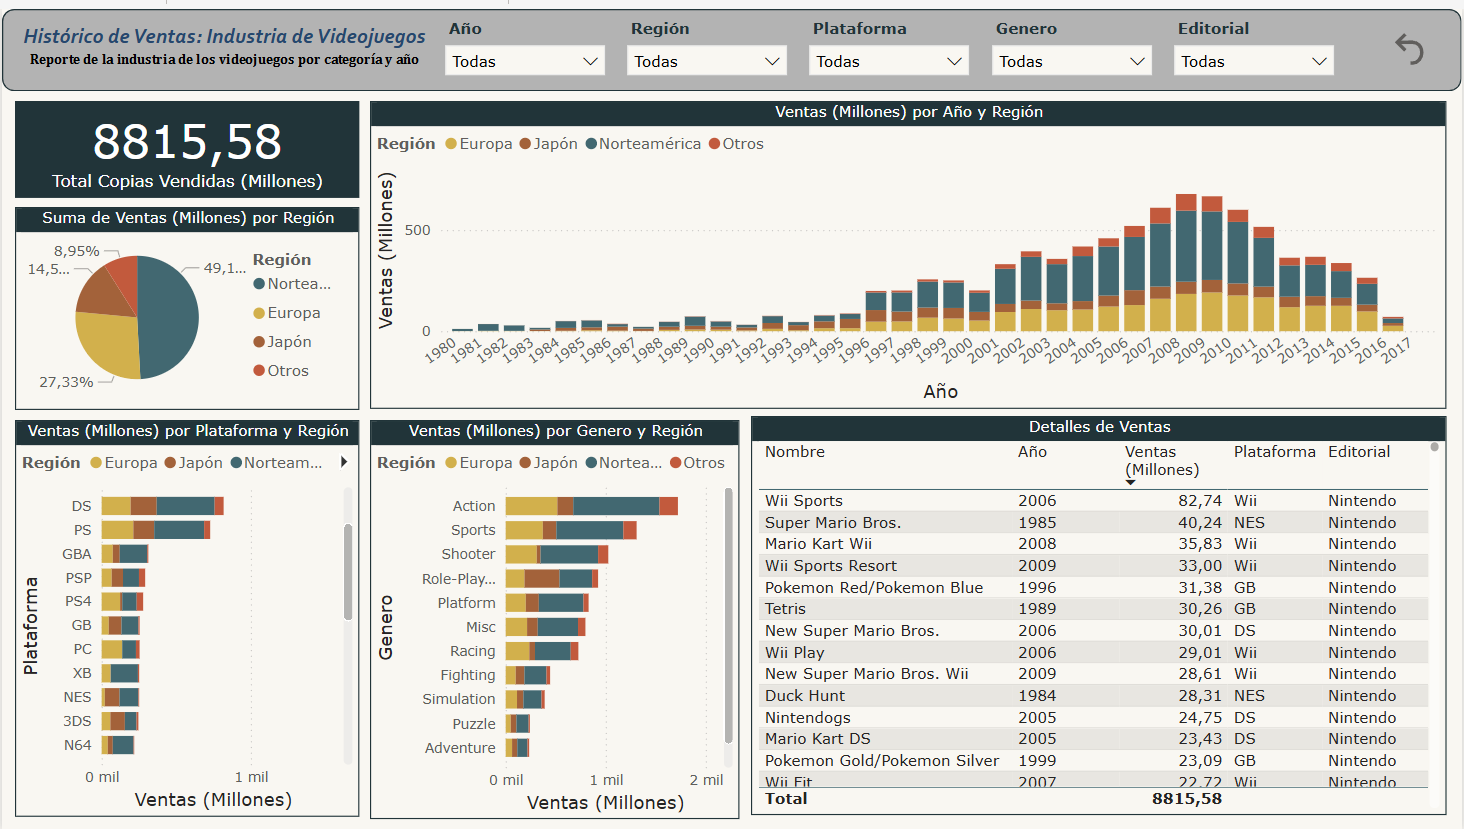

What the dashboard file says about the page in this screenshot:
{"tool":"powerbi","page":{"name":"Análisis Ventas","canvas":[1280,720],"ordinal":0},"visuals":[{"type":"shape","box":[0,0,1280,72],"z":0},{"type":"tableEx","title":"Detalles de Ventas","fields":{"Values":["Ventas Videojuegos.Nombre","Ventas Videojuegos.Año","Sum(Ventas Videojuegos.Ventas (Millones))","Ventas Videojuegos.Plataforma","Ventas Videojuegos.Editorial"]},"box":[656.9,357.3,609.8,350.2],"z":1000},{"type":"columnChart","fields":{"Y":["Sum(Ventas Videojuegos.Ventas (Millones))"],"Category":["Ventas Videojuegos.Año"],"Series":["Ventas Videojuegos.Región"]},"box":[322.7,80.9,944,270.2],"z":2000},{"type":"pieChart","fields":{"Category":["Ventas Videojuegos.Región"],"Y":["Sum(Ventas Videojuegos.Ventas (Millones))"]},"box":[11.6,173.3,302.2,177.8],"z":3000},{"type":"barChart","fields":{"Y":["Sum(Ventas Videojuegos.Ventas (Millones))"],"Series":["Ventas Videojuegos.Región"],"Category":["Ventas Videojuegos.Plataforma"]},"box":[11.6,360,302.2,347.6],"z":4000},{"type":"barChart","fields":{"Y":["Sum(Ventas Videojuegos.Ventas (Millones))"],"Series":["Ventas Videojuegos.Región"],"Category":["Ventas Videojuegos.Genero"]},"box":[322.7,360,324.4,350.2],"z":5000},{"type":"card","title":"Ventas Totales (Millones)","fields":{"Values":["Sum(Ventas Videojuegos.Ventas (Millones))"]},"box":[11.6,80.9,302.2,85.3],"z":6000},{"type":"slicer","fields":{"Values":["Ventas Videojuegos.Año"]},"box":[378.9,0,160,71.8],"z":7000},{"type":"slicer","fields":{"Values":["Ventas Videojuegos.Editorial"]},"box":[1018.1,0,160,71.8],"z":8000},{"type":"slicer","fields":{"Values":["Ventas Videojuegos.Plataforma"]},"box":[698.5,0,160,71.8],"z":9000},{"type":"slicer","fields":{"Values":["Ventas Videojuegos.Genero"]},"box":[858.3,0,160,71.8],"z":10000},{"type":"slicer","fields":{"Values":["Ventas Videojuegos.Región"]},"box":[538.7,0,159.8,71.8],"z":11000},{"type":"textbox","box":[11.7,7.2,367.2,57.5],"z":12000},{"type":"actionButton","box":[1215.6,14.4,37.7,42.2],"z":13000}]}

Visuals, with their boxes in screenshot pixels (x1, y1, x2, y2), scaled from the page's 1280x720 canvas onto the 1464x829 screenshot:
shape: [0, 0, 1463, 83]
"Detalles de Ventas" tableEx: [751, 411, 1449, 815]
columnChart - Sum(Ventas Videojuegos.Ventas (Millones)) x Ventas Videojuegos.Año: [369, 93, 1449, 404]
pieChart - Ventas Videojuegos.Región x Sum(Ventas Videojuegos.Ventas (Millones)): [13, 200, 359, 404]
barChart - Sum(Ventas Videojuegos.Ventas (Millones)) x Ventas Videojuegos.Región: [13, 414, 359, 815]
barChart - Sum(Ventas Videojuegos.Ventas (Millones)) x Ventas Videojuegos.Región: [369, 414, 740, 818]
"Ventas Totales (Millones)" card: [13, 93, 359, 191]
slicer - Ventas Videojuegos.Año: [433, 0, 616, 83]
slicer - Ventas Videojuegos.Editorial: [1164, 0, 1347, 83]
slicer - Ventas Videojuegos.Plataforma: [799, 0, 982, 83]
slicer - Ventas Videojuegos.Genero: [982, 0, 1165, 83]
slicer - Ventas Videojuegos.Región: [616, 0, 799, 83]
textbox: [13, 8, 433, 74]
actionButton: [1390, 17, 1433, 65]
